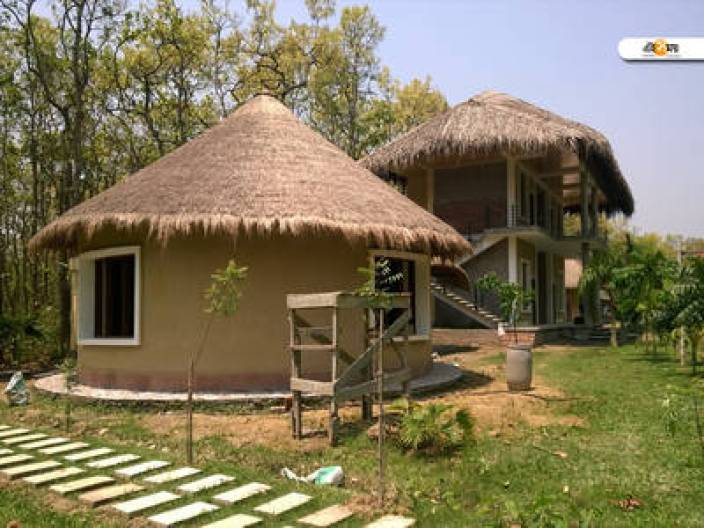Mud House: (38, 76, 447, 422), (374, 55, 638, 363)
